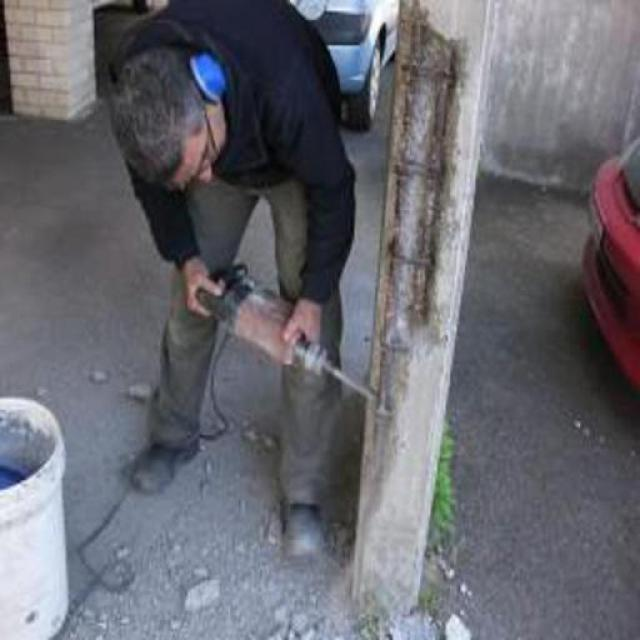D10: (374, 0, 456, 412)
